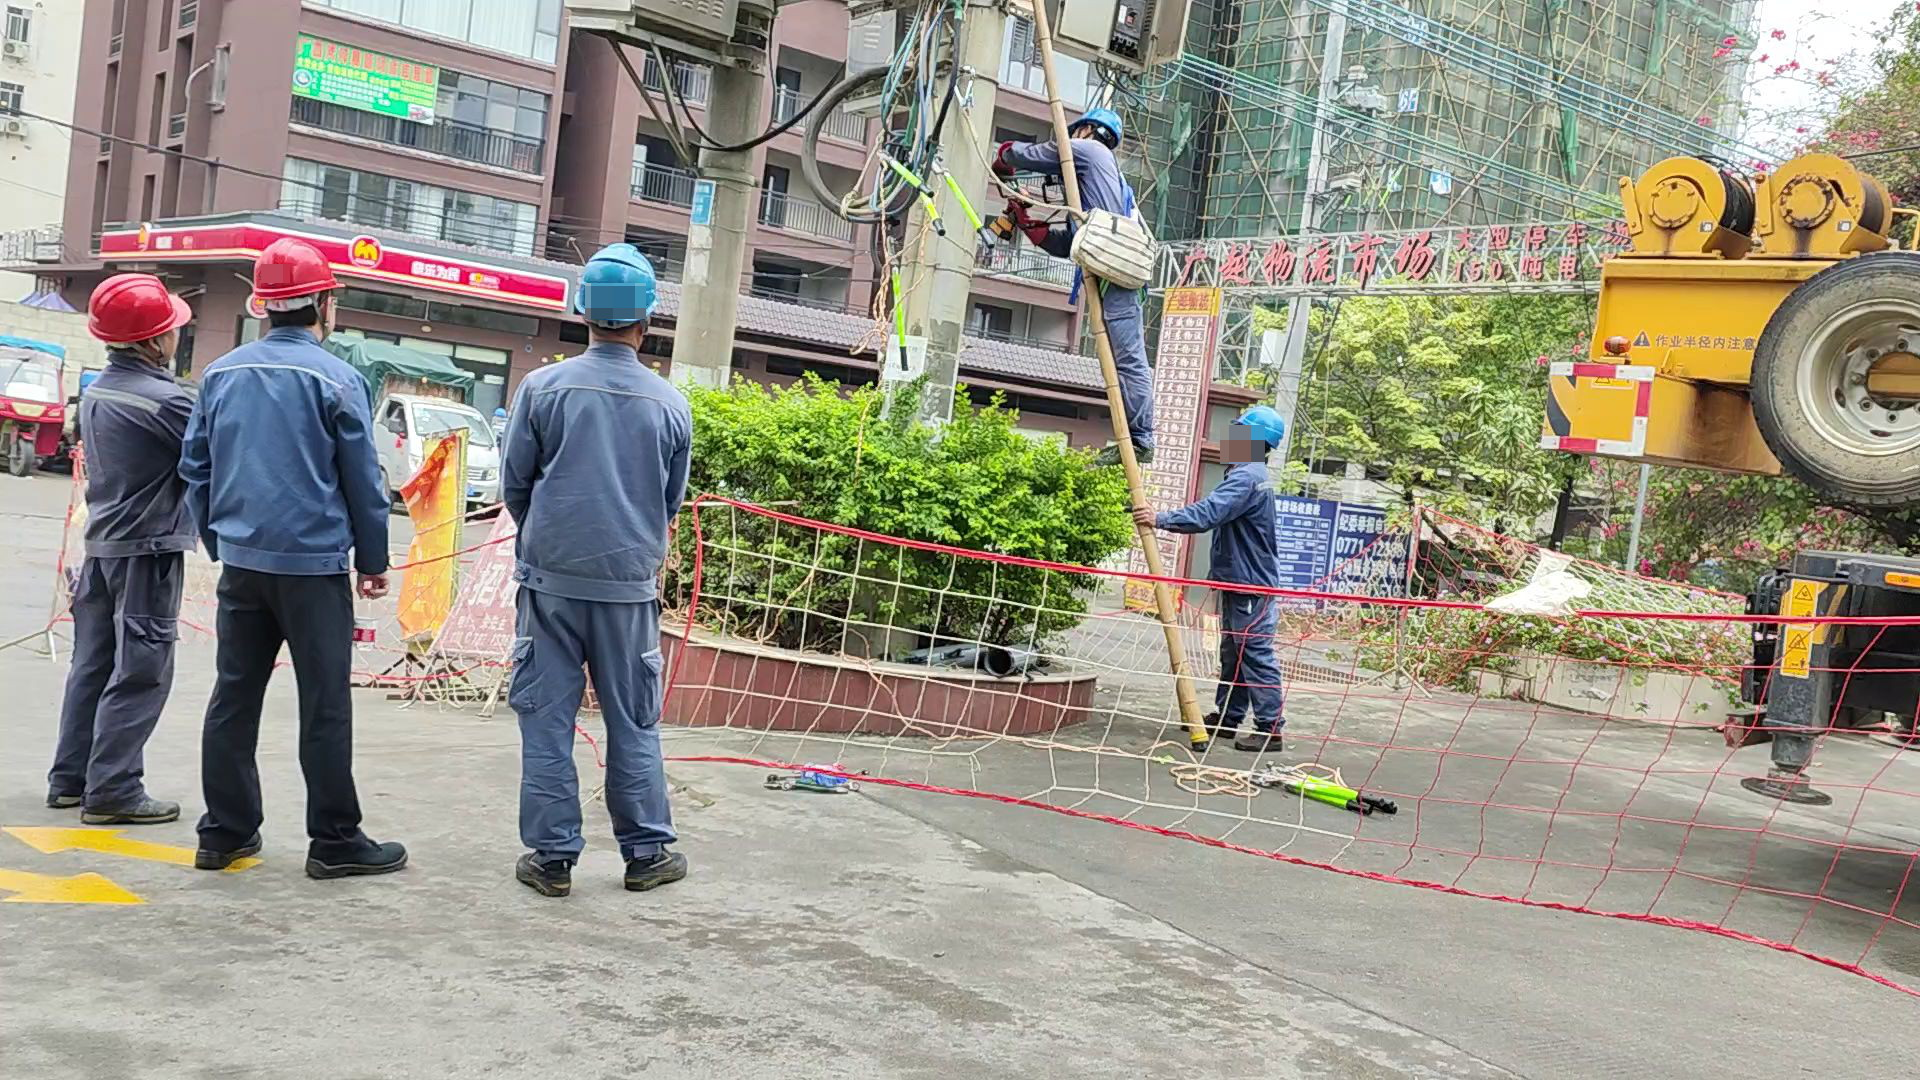downcloth: (195, 582, 366, 839)
downsuit: (506, 617, 678, 857), (48, 567, 180, 797), (1099, 277, 1158, 438), (1216, 597, 1287, 724)
halt: (249, 242, 348, 347), (86, 273, 194, 368), (573, 242, 662, 333), (1231, 405, 1287, 452), (1068, 106, 1123, 143)
hand: (354, 563, 391, 603), (1129, 503, 1153, 529)
inear: (308, 289, 337, 328), (141, 334, 168, 364), (1233, 428, 1255, 454), (1074, 123, 1091, 138)
longglove: (1003, 197, 1049, 248), (988, 144, 1016, 181)
person: (489, 244, 697, 891), (190, 278, 406, 877), (33, 271, 194, 836), (1004, 107, 1181, 454), (1155, 403, 1296, 731)
support: (1133, 397, 1301, 760)
upsuit: (497, 343, 697, 598), (192, 333, 397, 570), (68, 362, 192, 556), (1159, 455, 1280, 583), (1008, 135, 1140, 232)
